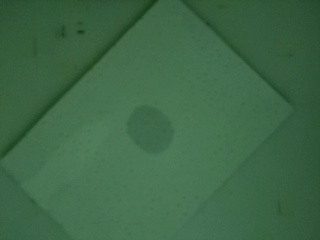Water_detected: (127, 110, 169, 160)
